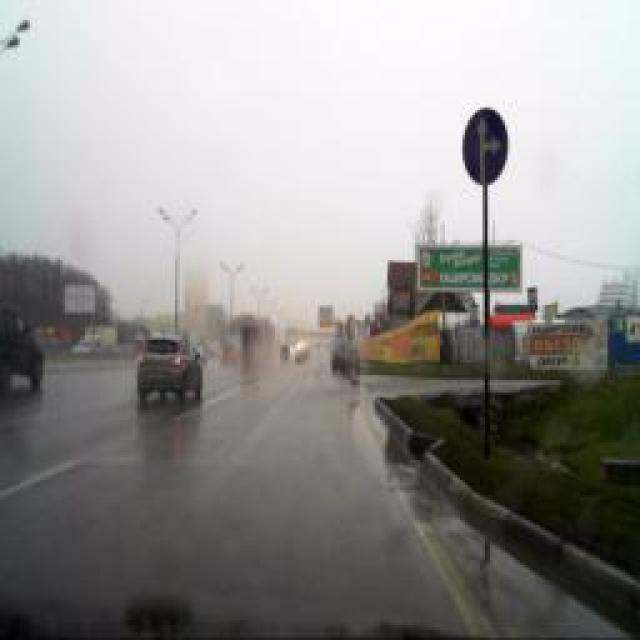sign: (461, 106, 509, 186)
